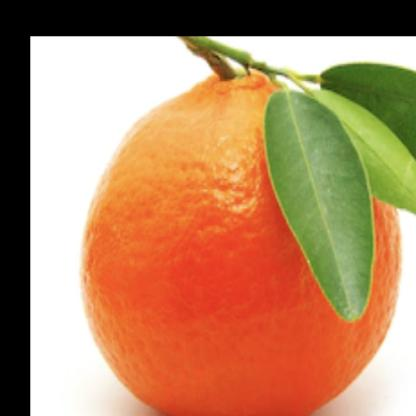fresh: (79, 71, 399, 416)
